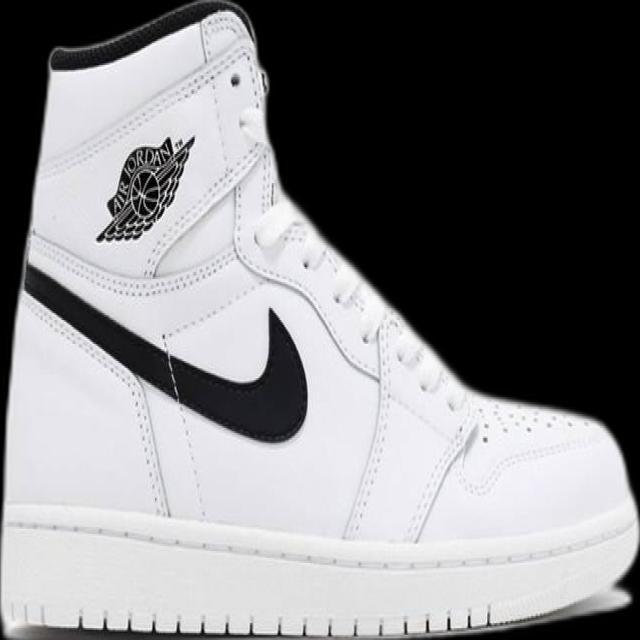J1_InsoleChar: (0, 0, 639, 639)
J1_ShoeLogo: (94, 133, 195, 243)
J1_StitchPattern: (20, 222, 598, 545), (1, 503, 636, 635), (246, 196, 477, 541), (20, 260, 209, 520), (2, 509, 636, 573), (339, 312, 476, 542), (43, 602, 500, 639), (340, 316, 397, 541), (155, 329, 210, 521), (403, 414, 478, 544), (123, 374, 172, 517)
